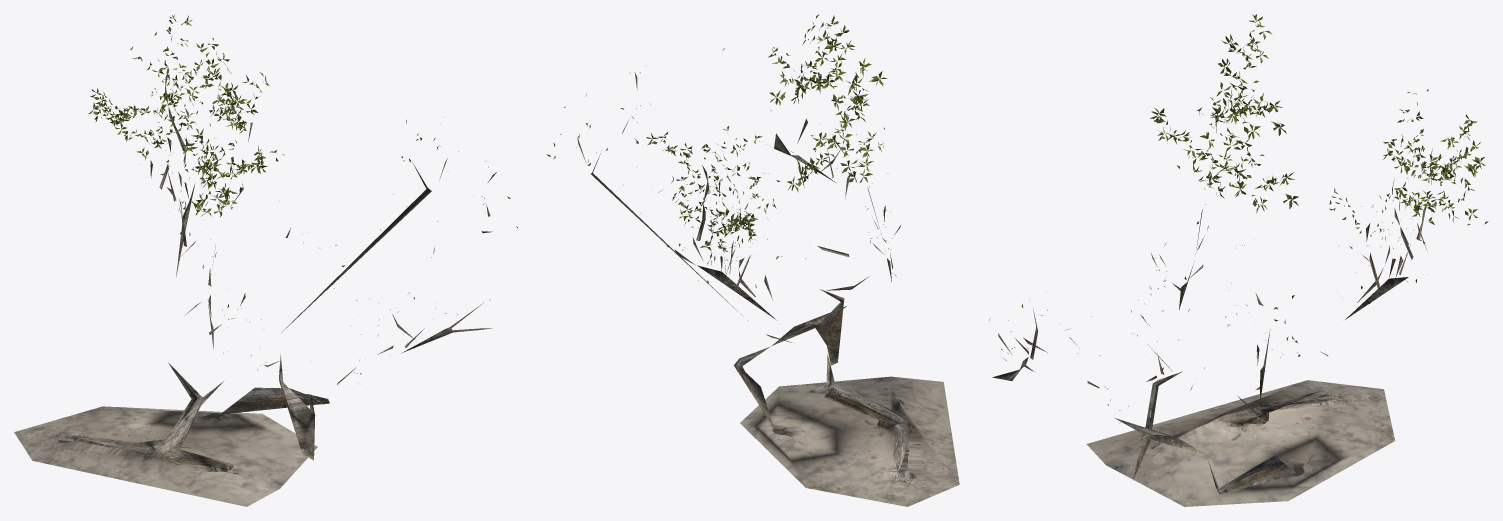
File: island_tree_03.glb
The picture shows the model from 3 angles, left to right: view 1: azimuth 30°, elevation 25°; view 2: azimuth 150°, elevation 25°; view 3: azimuth 270°, elevation 25°; orthographic projection. The views are drawn at different scales.
Parts seen in each view (by area): view 1: island_tree_03_LOD0; view 2: island_tree_03_LOD0; view 3: island_tree_03_LOD0.
Boxes of the visible parts, bbox=[...] form: island_tree_03_LOD0: bbox=[14, 14, 517, 506]; island_tree_03_LOD0: bbox=[546, 14, 959, 506]; island_tree_03_LOD0: bbox=[989, 14, 1488, 506].
Bounding box in the file's own units: 2.8 × 2.61 × 2.64.
Materials: 3 (3 with a texture image).
